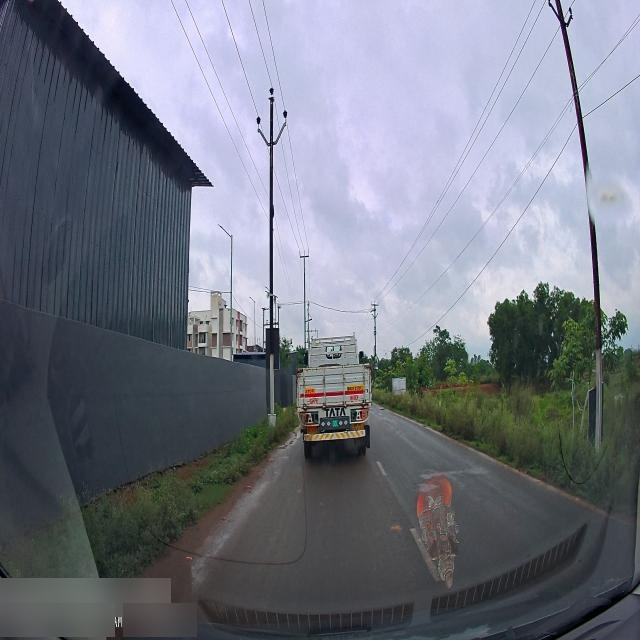pothole: (280, 437, 296, 453)
